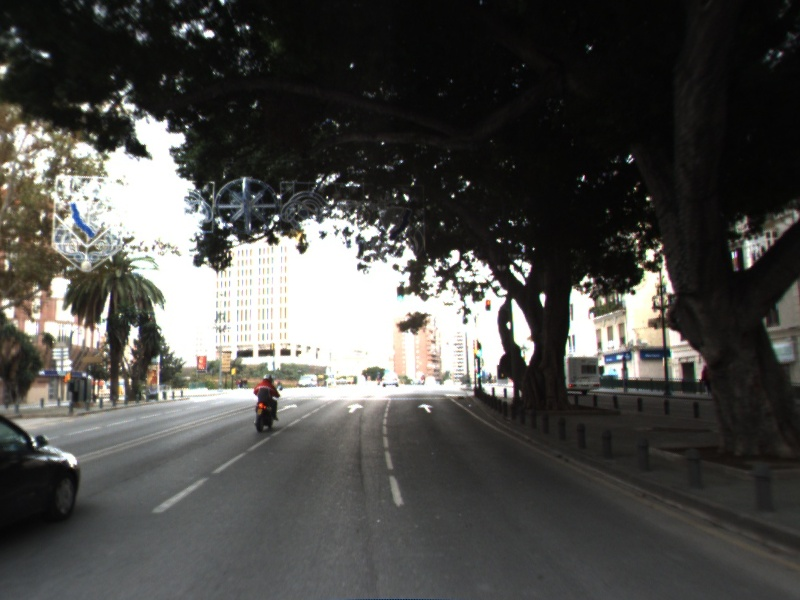STRAIGHT: (345, 401, 366, 415), (416, 401, 436, 415), (275, 402, 300, 413)
